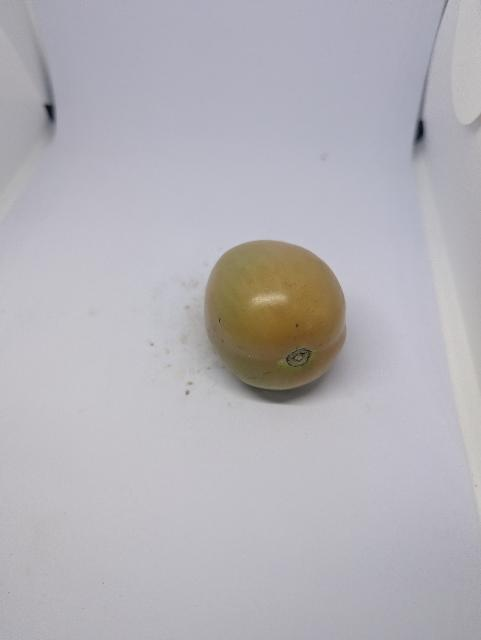breaker: (204, 235, 365, 397)
